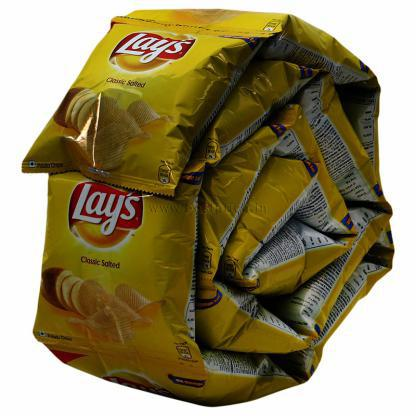classicsalted: (22, 23, 271, 174), (31, 173, 210, 358), (111, 8, 393, 87), (192, 117, 295, 283), (287, 209, 395, 341), (43, 352, 302, 407), (298, 71, 387, 209), (219, 160, 322, 279), (196, 283, 310, 356), (243, 221, 353, 296)
